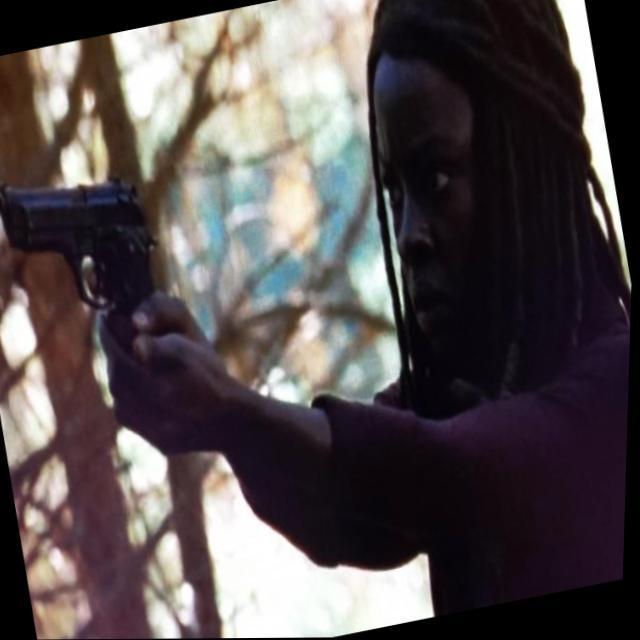weapon: (0, 148, 183, 377)
